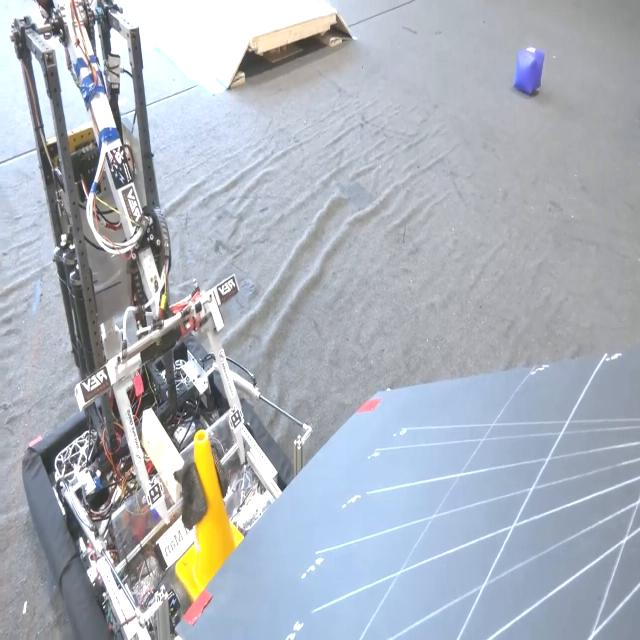frc_cone: (176, 428, 239, 610)
frc_cube: (511, 42, 546, 96)
